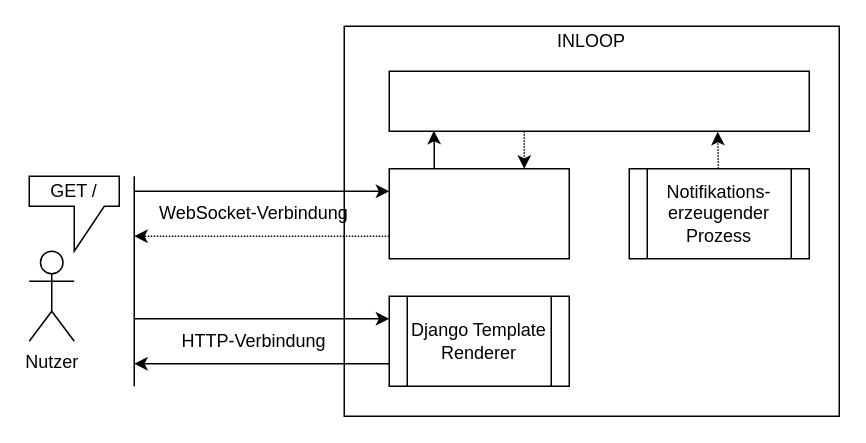
The diagram is 866 pixels wide and 443 high, and some of its shapes have lost their labels. Here are the shapes that lost their labels. From the top down, the box of each, then its label:
(388, 70, 809, 131): Channel Layer (Nachrichten-Bus)
(388, 167, 569, 259): Notification Consumer
